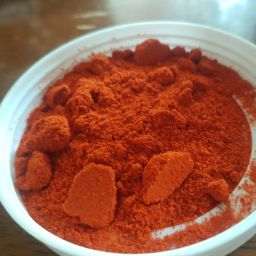Red chilli: (17, 71, 237, 231), (58, 37, 256, 212), (65, 39, 249, 180), (92, 97, 256, 238)
